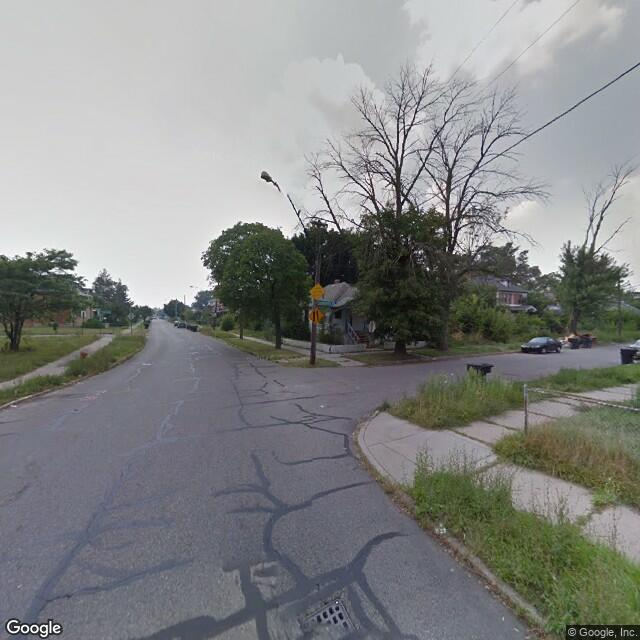litter: (428, 520, 449, 535), (6, 403, 22, 411)
